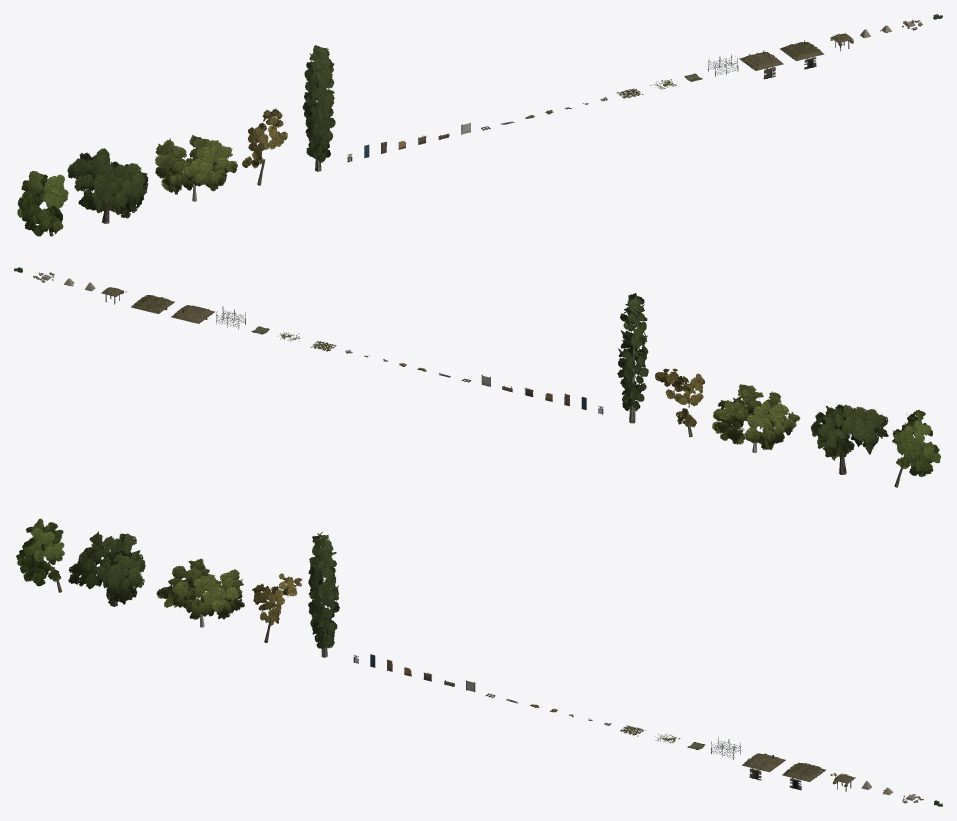
Rendered from fortifications.glb.
The picture shows the model from 3 angles, top to bottom: view 1: azimuth 30°, elevation 25°; view 2: azimuth 150°, elevation 25°; view 3: azimuth 330°, elevation 25°; orthographic projection.
Visible parts, largest first — view 1: tree_oak_leafy_mid_geo, tree_walnut_leafy_mid_geo, tree_poplar_leafy_mid_geo, tree_acacia_leafy_mid_geo, tree_acacia_shelled_mid_geo, dugout_roof_b_geo, dugout_roof_geo; view 2: tree_walnut_leafy_mid_geo, tree_oak_leafy_mid_geo, tree_poplar_leafy_mid_geo, tree_acacia_leafy_mid_geo, tree_acacia_shelled_mid_geo, dugout_roof_b_geo, dugout_roof_geo; view 3: tree_oak_leafy_mid_geo, tree_walnut_leafy_mid_geo, tree_poplar_leafy_mid_geo, tree_acacia_leafy_mid_geo, tree_acacia_shelled_mid_geo, dugout_roof_b_geo, dugout_roof_geo.
Part boxes in pixels (x1,y1,x2,y2): tree_oak_leafy_mid_geo: (67, 148, 148, 223); tree_walnut_leafy_mid_geo: (155, 135, 237, 201); tree_poplar_leafy_mid_geo: (302, 45, 335, 171); tree_acacia_leafy_mid_geo: (17, 171, 68, 236); tree_acacia_shelled_mid_geo: (242, 108, 287, 185); dugout_roof_b_geo: (779, 40, 824, 69); dugout_roof_geo: (739, 50, 783, 79); tree_walnut_leafy_mid_geo: (712, 384, 800, 452); tree_oak_leafy_mid_geo: (810, 404, 888, 474); tree_poplar_leafy_mid_geo: (617, 293, 648, 423); tree_acacia_leafy_mid_geo: (892, 410, 940, 487); tree_acacia_shelled_mid_geo: (655, 368, 704, 437); dugout_roof_b_geo: (131, 295, 174, 313); dugout_roof_geo: (171, 305, 214, 323); tree_oak_leafy_mid_geo: (68, 531, 145, 606); tree_walnut_leafy_mid_geo: (156, 558, 244, 627); tree_poplar_leafy_mid_geo: (308, 531, 339, 657); tree_acacia_leafy_mid_geo: (16, 518, 64, 592); tree_acacia_shelled_mid_geo: (252, 573, 301, 642); dugout_roof_b_geo: (782, 762, 826, 790); dugout_roof_geo: (741, 753, 785, 780).
Size of the model in its own units: 156 by 22.14 by 12.76.
Materials: 3 (3 with a texture image).
